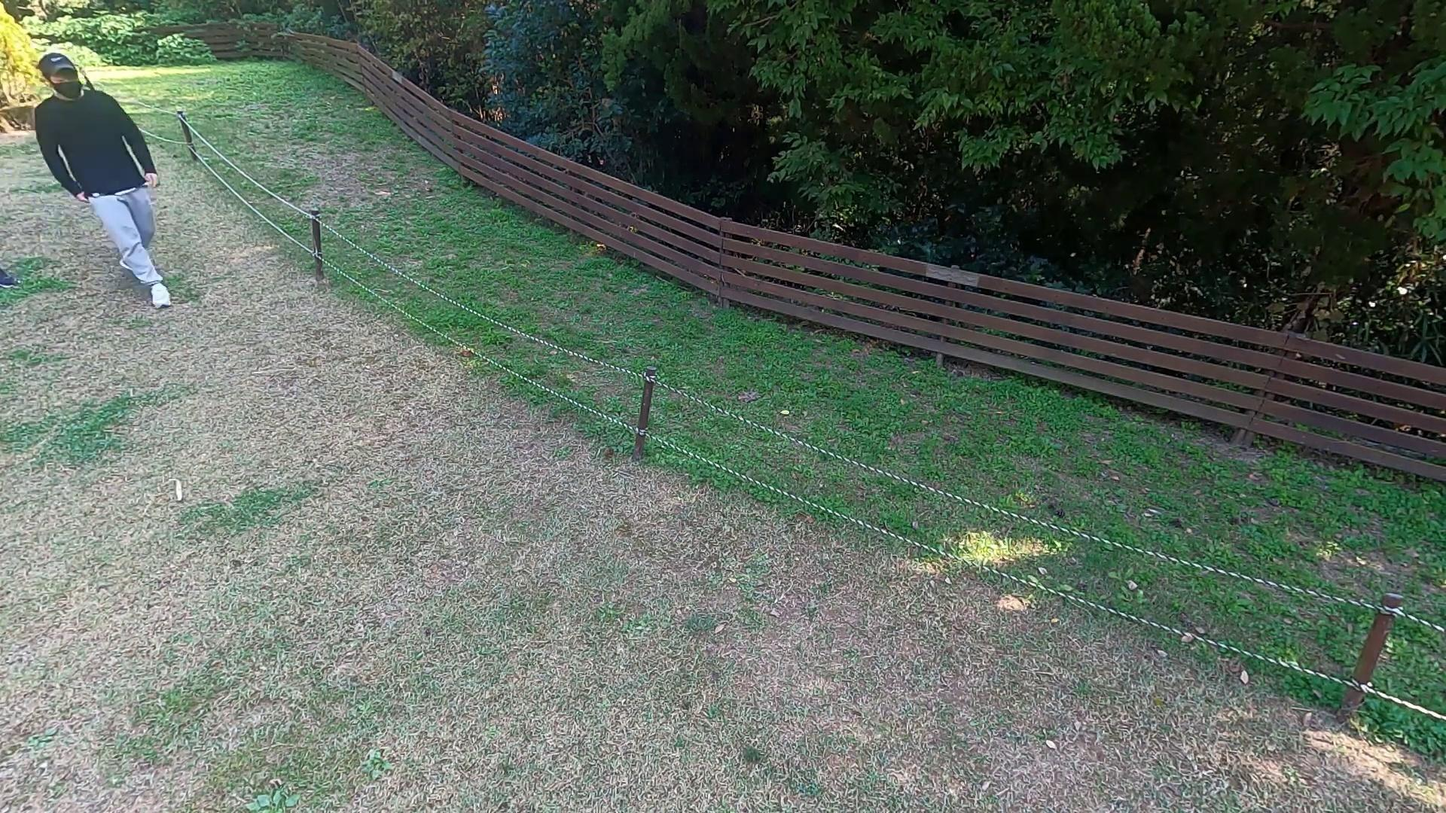person: (32, 49, 179, 310)
